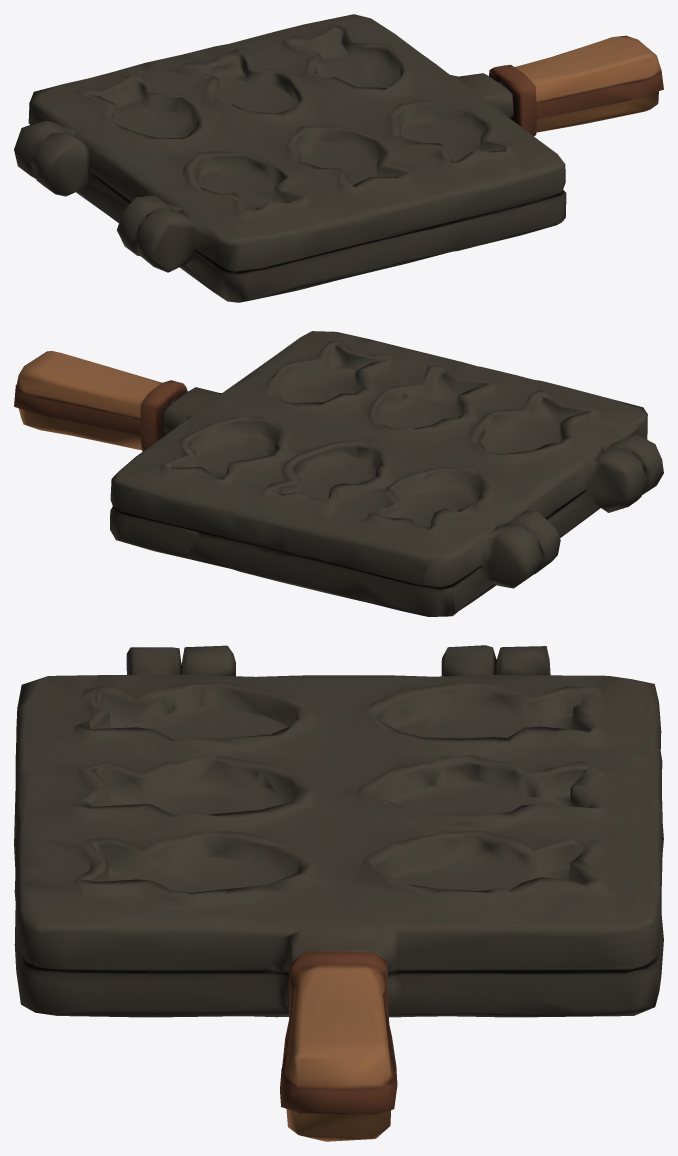
File: KR_사물_s1_dessert_part_lid_bungeoppang.glb
3 views of the same model, one above another, from view 1: azimuth 30°, elevation 25°; view 2: azimuth 150°, elevation 25°; view 3: azimuth 270°, elevation 25° (orthographic). The views are drawn at different scales.
Parts seen in each view (by area): view 1: tripo_node_9e220503-cf19-4bf2-9944-c97b12d2f6db; view 2: tripo_node_9e220503-cf19-4bf2-9944-c97b12d2f6db; view 3: tripo_node_9e220503-cf19-4bf2-9944-c97b12d2f6db.
Part boxes in pixels (x1=…): tripo_node_9e220503-cf19-4bf2-9944-c97b12d2f6db: x1=14, y1=14, x2=663, y2=302; tripo_node_9e220503-cf19-4bf2-9944-c97b12d2f6db: x1=14, y1=331, x2=663, y2=616; tripo_node_9e220503-cf19-4bf2-9944-c97b12d2f6db: x1=14, y1=645, x2=663, y2=1141.
Bounding box in the file's own units: 1 × 0.1296 × 0.648.
Materials: 1 (1 with a texture image).
